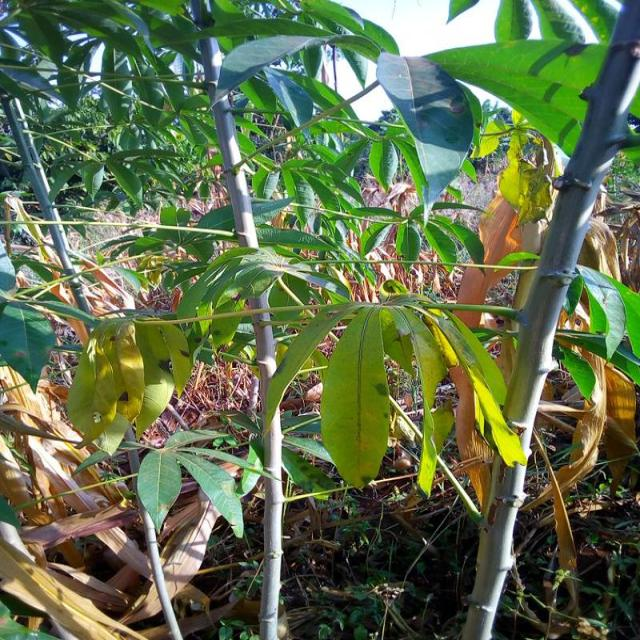cassava leaf: (374, 50, 476, 226), (320, 303, 390, 488)
